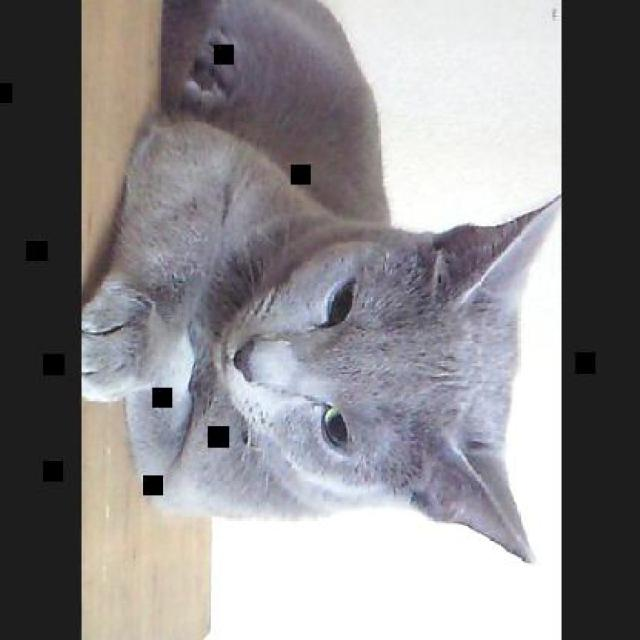unauthorized: (80, 0, 560, 565)
